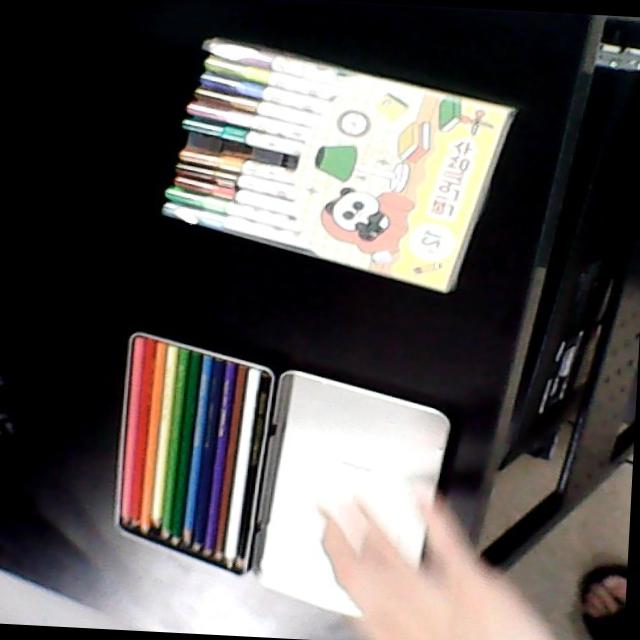color: (106, 322, 279, 582)
signpen: (150, 27, 526, 300)
